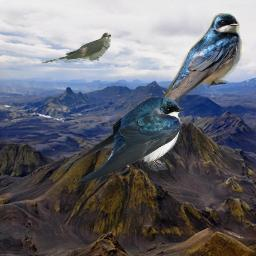Cuckoo: (40, 32, 111, 64)
Swallow: (60, 96, 184, 186), (154, 11, 242, 115)
